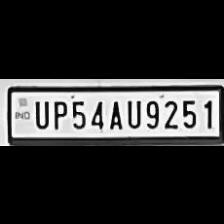1: (200, 96, 216, 128)
2: (160, 96, 178, 128)
4: (87, 96, 105, 128)
5: (177, 96, 197, 128), (68, 96, 86, 128)
9: (141, 96, 159, 127)
A: (105, 96, 123, 128)
P: (49, 97, 67, 129)
U: (31, 96, 49, 128), (124, 96, 142, 128)
